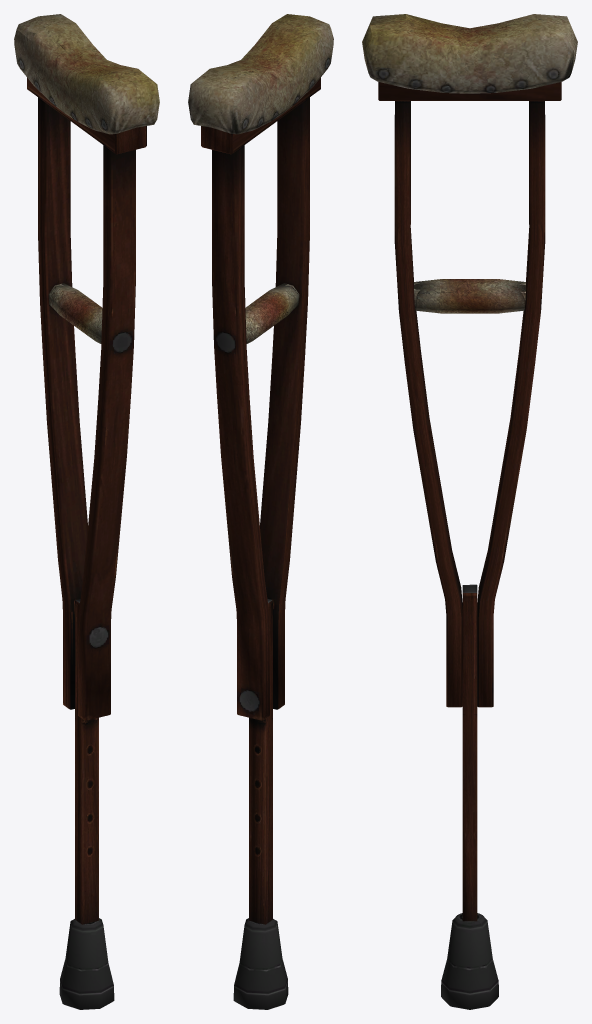
File: crutch.obj
The picture shows the model from 3 angles, left to right: view 1: azimuth 30°, elevation 25°; view 2: azimuth 150°, elevation 25°; view 3: azimuth 270°, elevation 25°; orthographic projection. The views are drawn at different scales.
Visible parts, largest first — view 1: crutch; view 2: crutch; view 3: crutch.
Part boxes in pixels (x1,y1,x2,y2): crutch: [14, 14, 159, 1009]; crutch: [188, 14, 333, 1009]; crutch: [362, 14, 577, 1009].
Bounding box in the file's own units: 11.17 × 190 × 38.08.
Materials: 1 (1 with a texture image).
